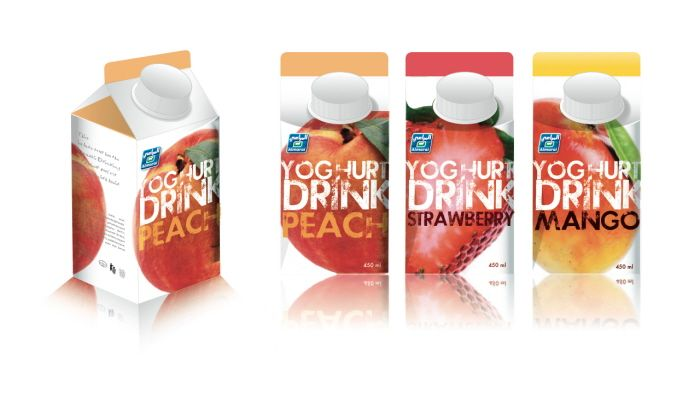carton: (46, 26, 233, 309), (263, 21, 400, 335), (529, 24, 657, 354), (403, 26, 524, 346)
